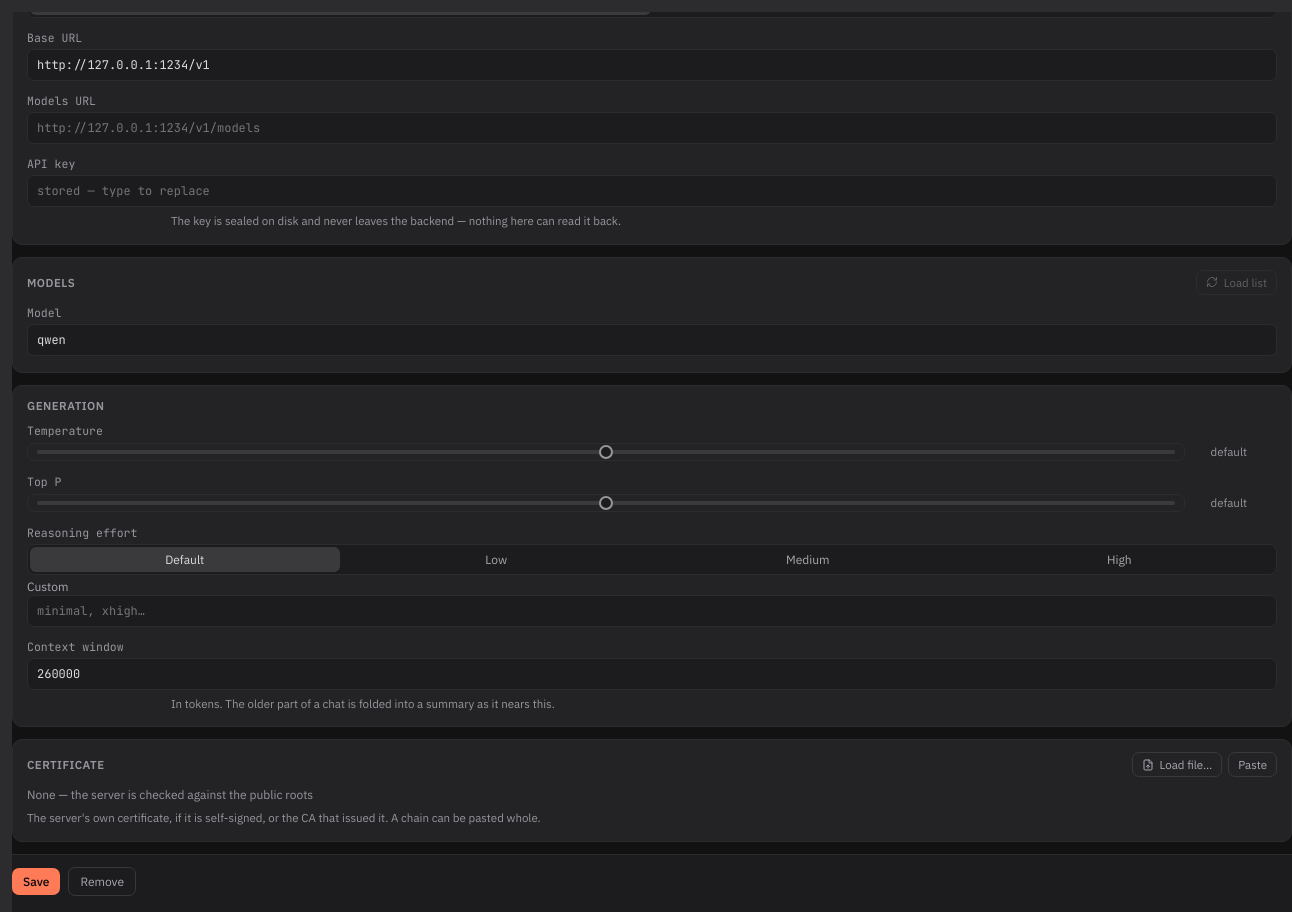
Test: saving › editing again takes the word back
(page scrolled)
Click the button "Save": click(36, 882) 12,868 -> 60,895
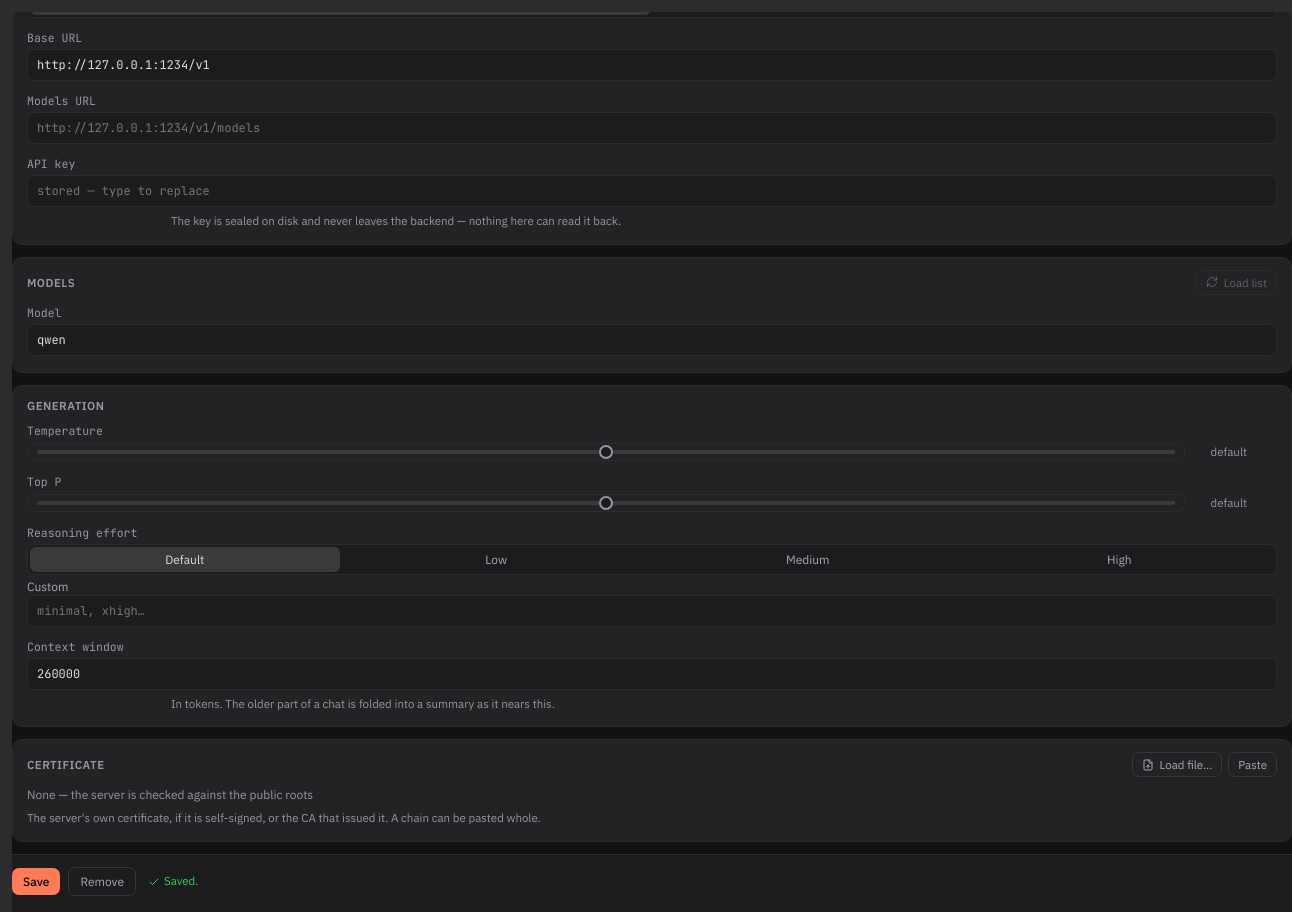
Now the text "Saved." is shown, box 148,873 -> 198,890
In the password field with placeholder "stored — type to replace": (652, 191) 27,175 -> 1277,207, type "sk-newer"
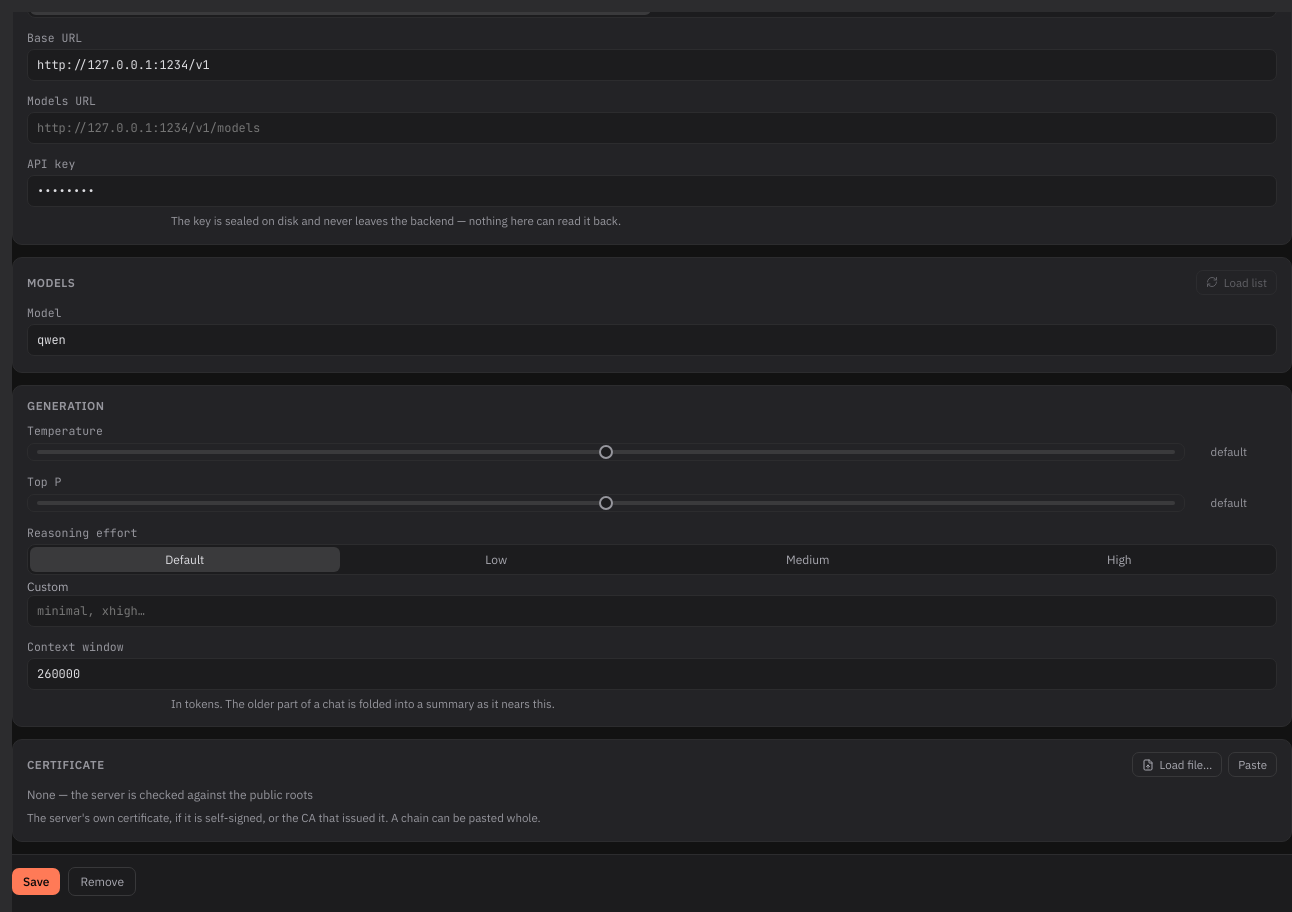
Now the text "Saved." is gone
